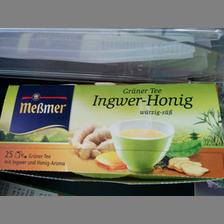Tee: (0, 83, 224, 179)
